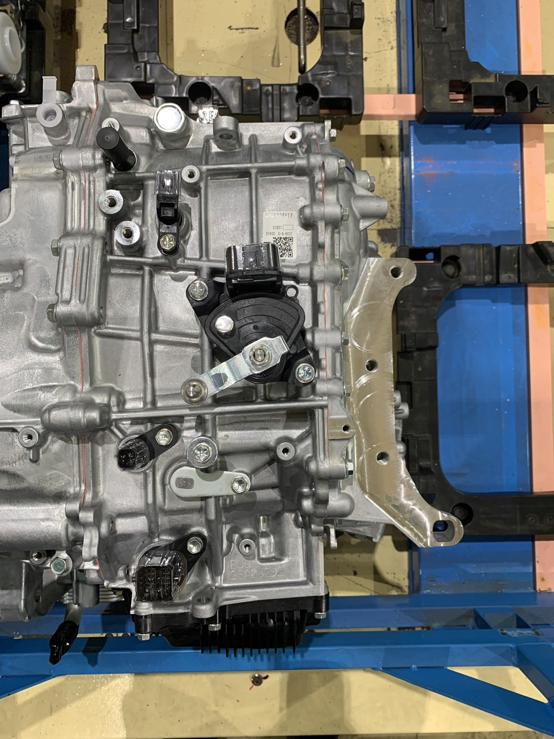gearbox_type2: (0, 92, 463, 655)
gearbox_type2_FP1: (188, 275, 318, 404)
gearbox_type2_FP2: (42, 145, 107, 327)
gearbox_type2_FP3: (42, 397, 113, 437)
